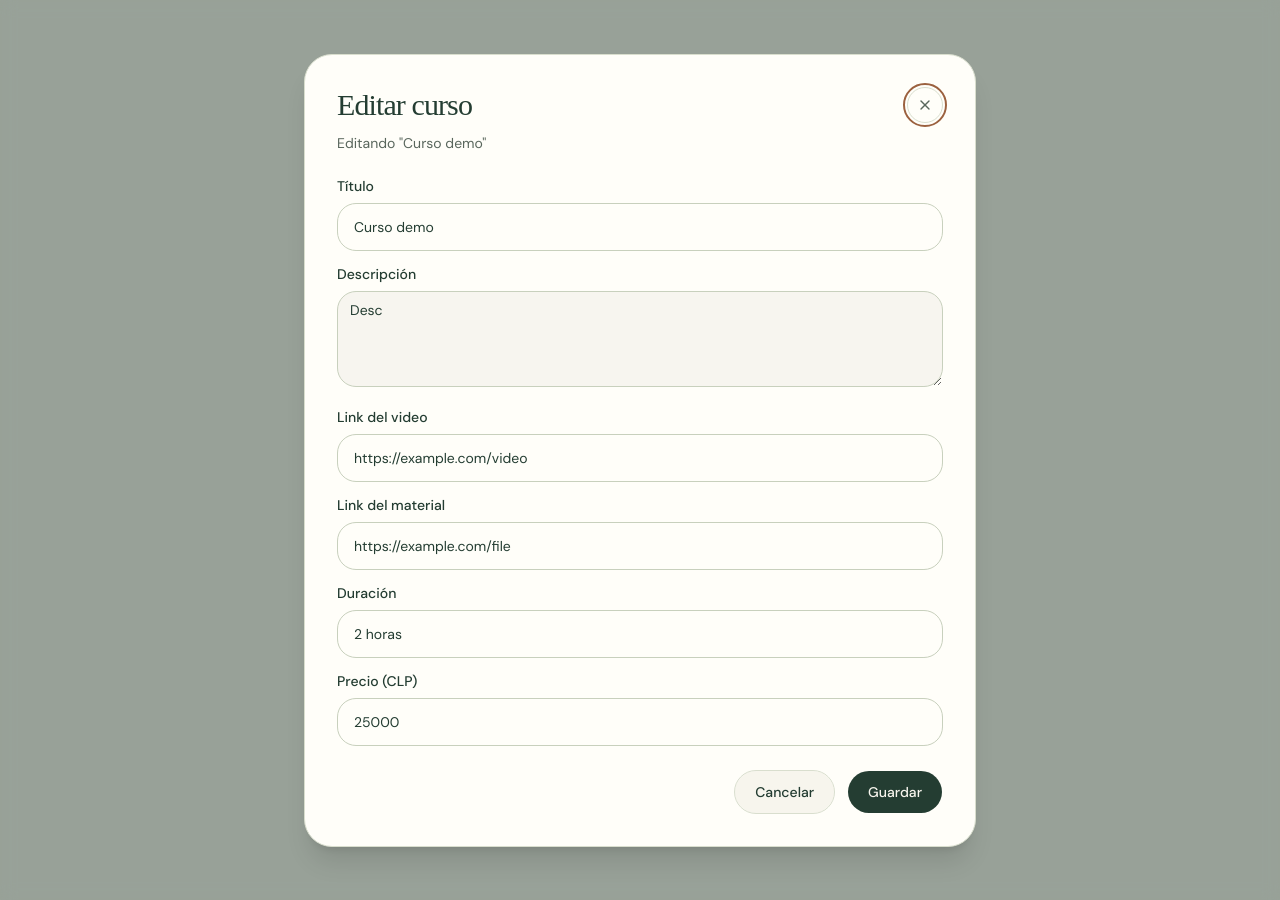
Test case: CourseFormDialog › shows error when edit has no changes
Click the button "Guardar": x=895, y=792 [847,770,943,814]
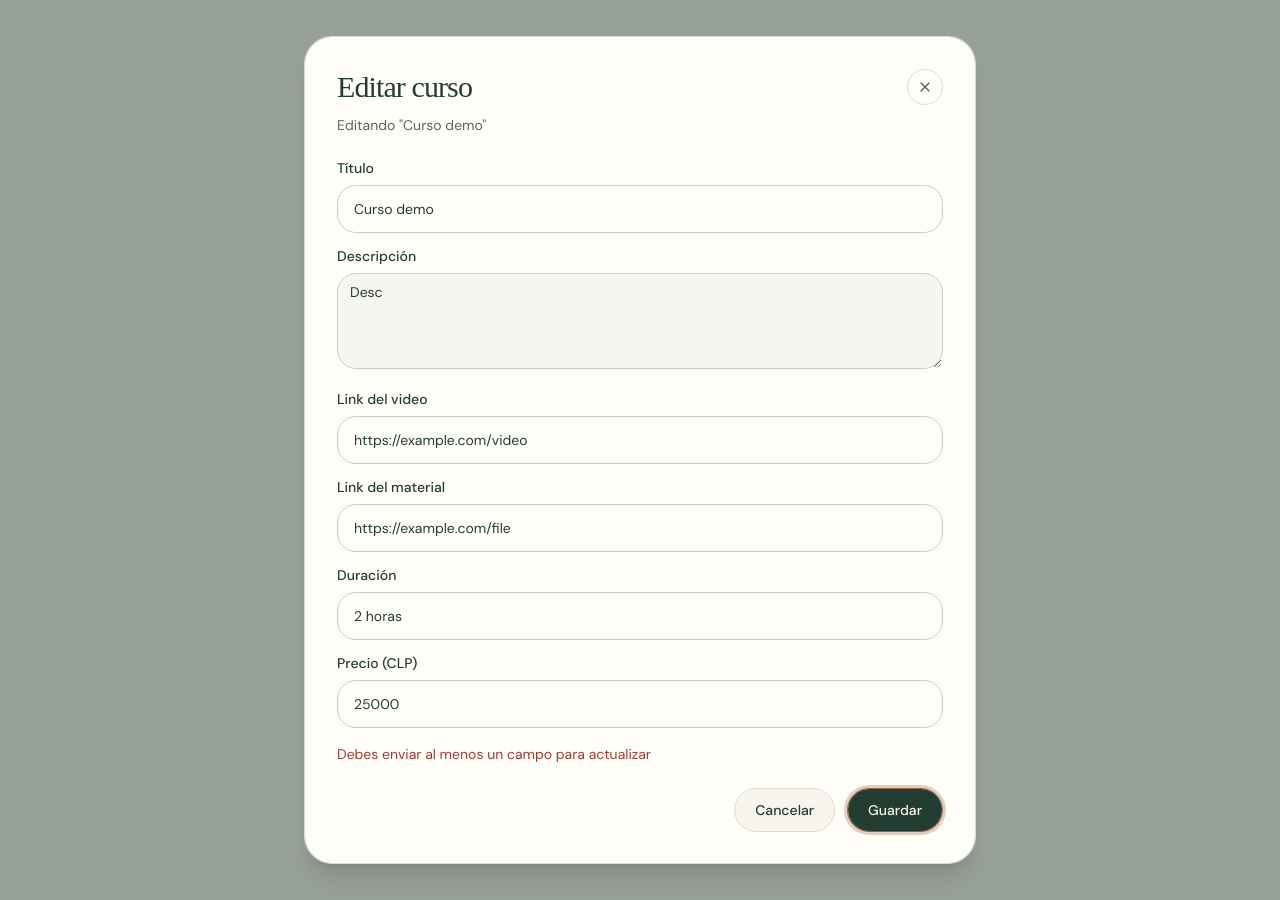
expect the message shows "Debes enviar al menos un campo": met, box [337,745,651,763]
